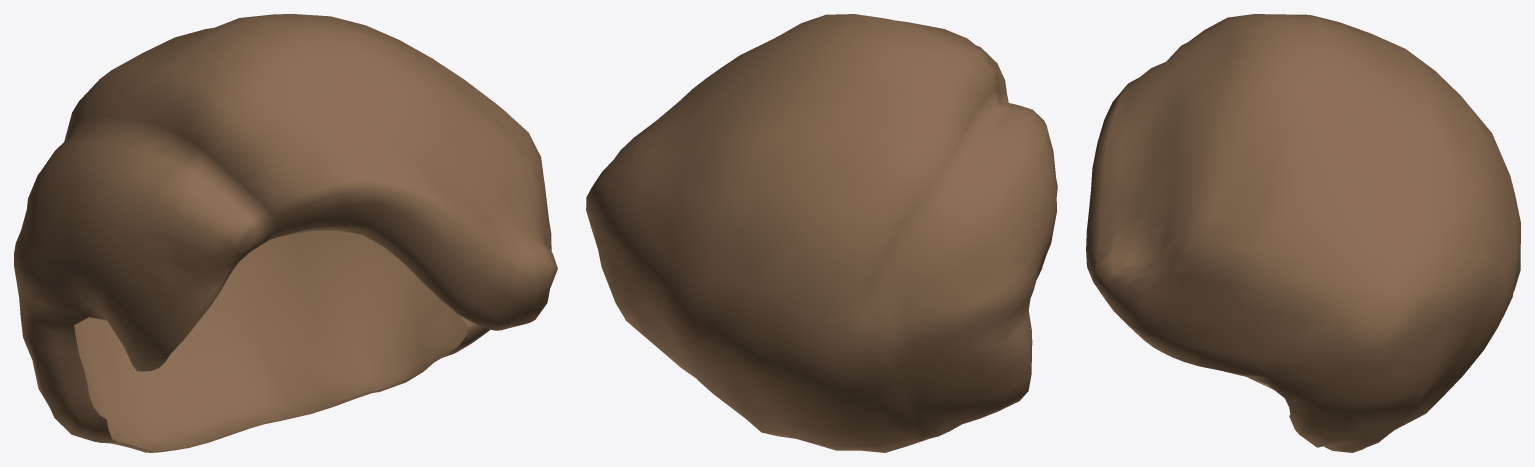
Rendered from hair_1.fbx.
3 views of the same model, side by side, from view 1: azimuth 30°, elevation 25°; view 2: azimuth 150°, elevation 25°; view 3: azimuth 270°, elevation 25° (orthographic). The views are drawn at different scales.
Visible parts, largest first — view 1: Group44153; view 2: Group44153; view 3: Group44153.
Part boxes in pixels (x1,y1,x2,y2): Group44153: (14,14,557,452); Group44153: (586,14,1057,452); Group44153: (1086,14,1520,452).
Bounding box in the file's own units: 1.2 × 1.02 × 1.06.
